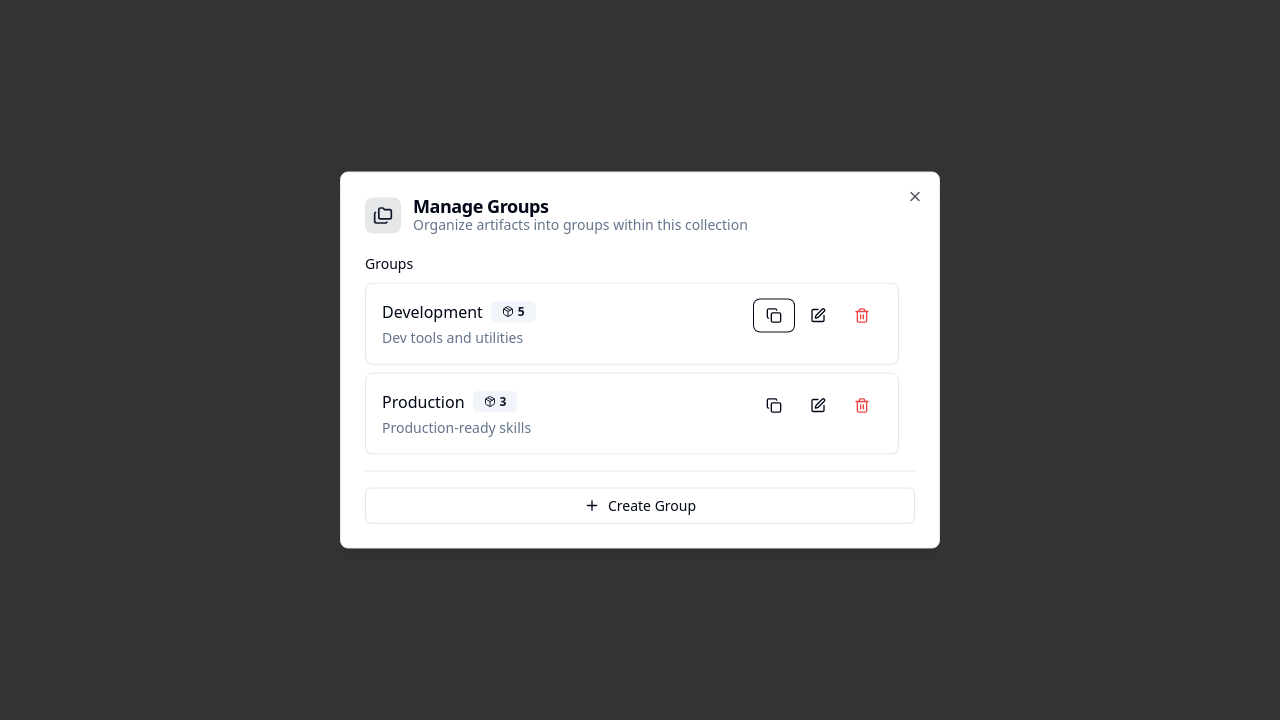
Test: ManageGroupsDialog › Edit Group › enters edit mode when edit button is clicked
The width and height of the screenshot is (1280, 720).
Click the 3rd button: coordinates (818, 316) [798, 300, 838, 332]
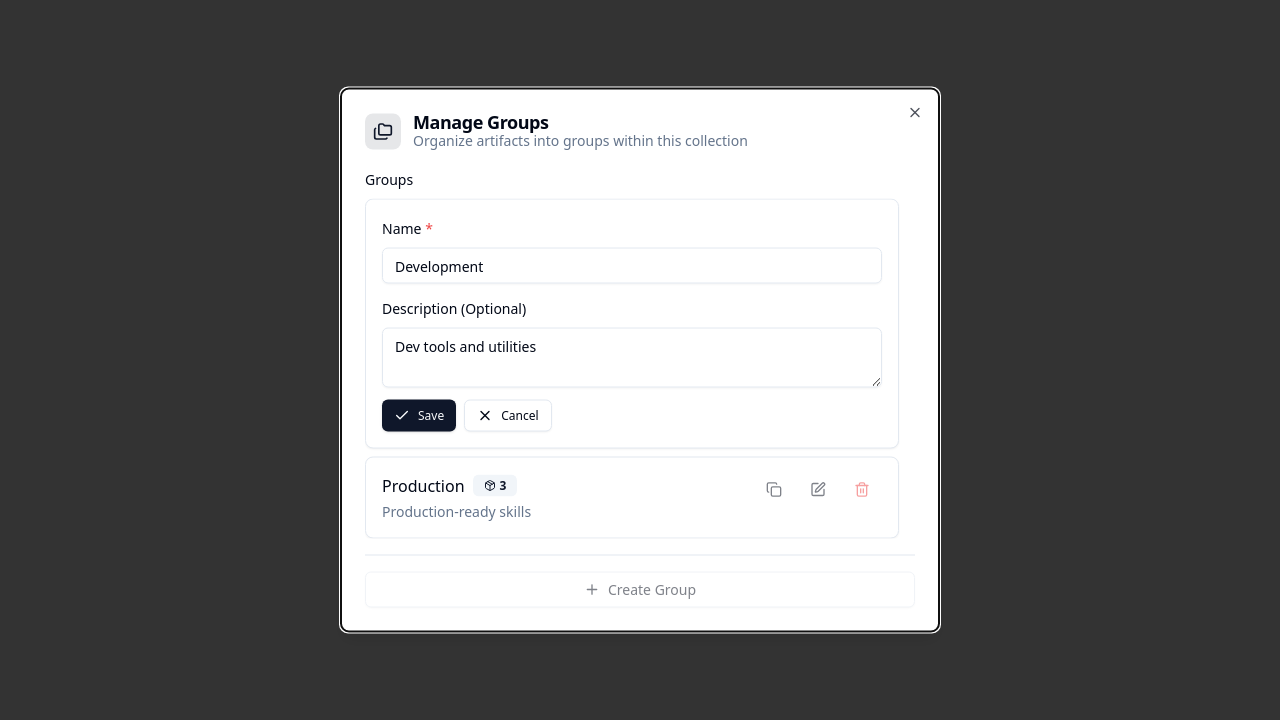
expect the button "Save" is shown: met, box [382, 400, 456, 432]
expect the button "Cancel" is shown: met, box [464, 400, 552, 432]
